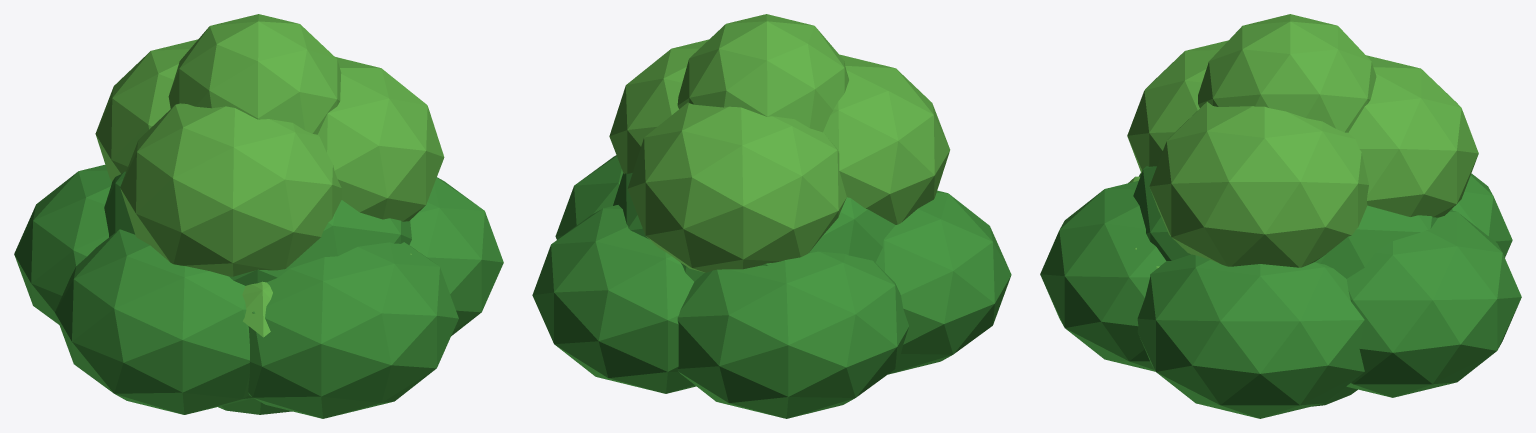
File: FernLeaves.glb
The picture shows the model from 3 angles, left to right: view 1: azimuth 30°, elevation 25°; view 2: azimuth 150°, elevation 25°; view 3: azimuth 270°, elevation 25°; orthographic projection.
Parts seen in each view (by area): view 1: FernLeaves_FernGreen, FernLeaves_FernTips; view 2: FernLeaves_FernGreen, FernLeaves_FernTips; view 3: FernLeaves_FernGreen, FernLeaves_FernTips.
Part boxes in pixels (x1,y1,x2,y2): FernLeaves_FernGreen: (14,165,503,418); FernLeaves_FernTips: (95,14,444,337); FernLeaves_FernGreen: (532,155,1011,418); FernLeaves_FernTips: (609,14,950,272); FernLeaves_FernGreen: (1040,166,1521,418); FernLeaves_FernTips: (1127,14,1478,268).
Bounding box in the file's own units: 3.4 × 2.8 × 3.4.
